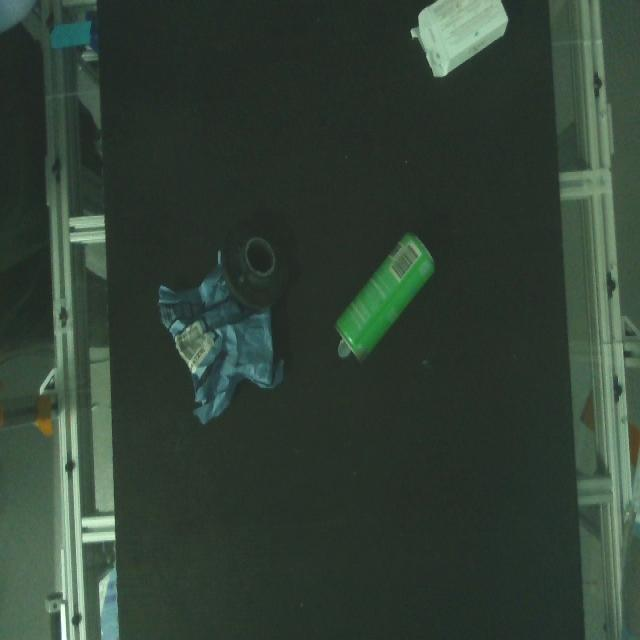non-paper: (332, 226, 439, 366), (215, 211, 301, 314)
paper: (151, 245, 288, 430), (405, 0, 513, 85)
